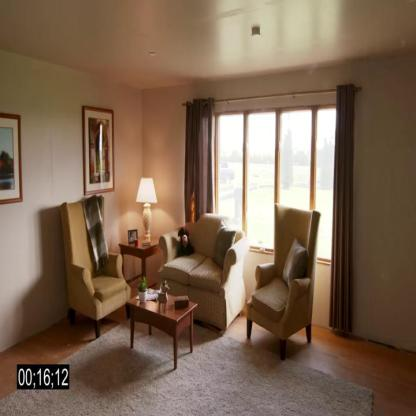fire: (190, 191, 196, 223)
